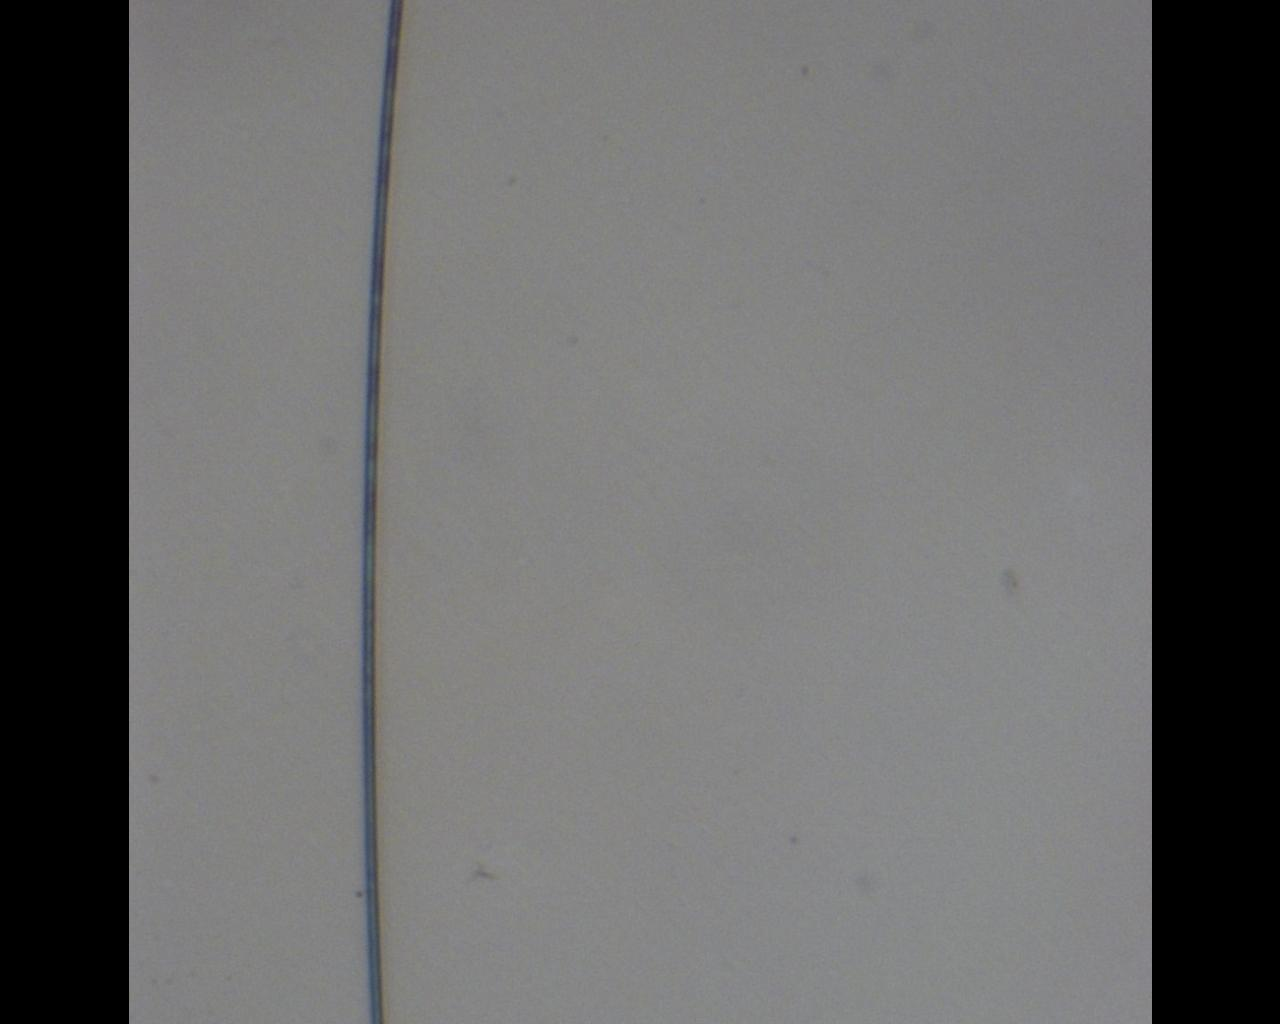fiber: (0, 419, 1280, 991)
